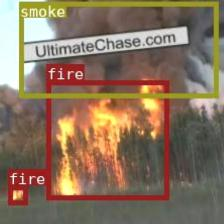fire: (46, 80, 168, 199), (8, 184, 26, 204)
smoke: (18, 2, 217, 97)
